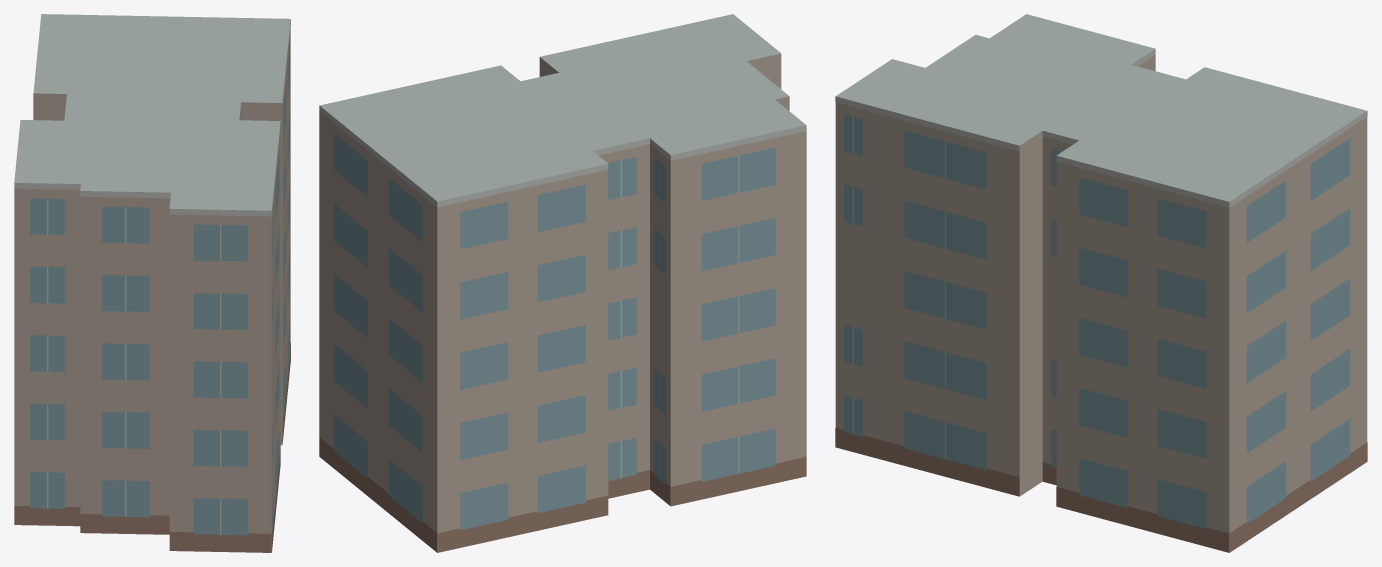
Rendered from survey-upis-32611539.glb.
3 views of the same model, side by side, from view 1: azimuth 30°, elevation 25°; view 2: azimuth 150°, elevation 25°; view 3: azimuth 270°, elevation 25° (orthographic). The views are drawn at different scales.
Visible parts, largest first — view 1: survey-upis-32611539.tmp; view 2: survey-upis-32611539.tmp; view 3: survey-upis-32611539.tmp.
Part boxes in pixels (box(x1,y1,x2,y2)): survey-upis-32611539.tmp: box(14, 14, 290, 552); survey-upis-32611539.tmp: box(319, 14, 806, 552); survey-upis-32611539.tmp: box(835, 14, 1367, 552).
Size of the model in its own units: 16.78 by 14.6 by 20.07.
